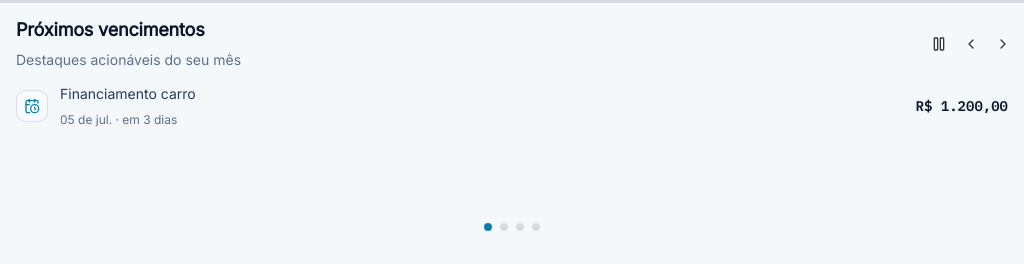
Test case: DashboardInsightCarousel › autoplay › pauses while the pointer hovers the card and resumes when it leaves
Step 1. Hover over the element that starts with "Próximos vencimentos" → (512, 124), box [0,0,1023,247]
Expected: the text "Próximos vencimentos" is shown, [16,19,204,40]
Step 2. Move the pointer off the element that starts with "Próximos vencimentos"
Wait 12000 ms
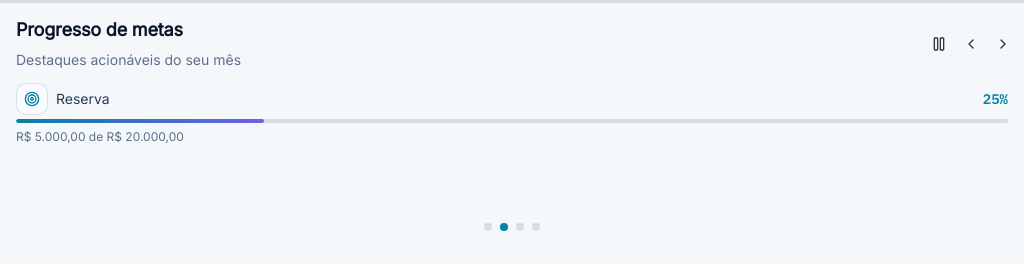
Expected: the text "Progresso de metas" is shown, [16,19,183,40]
